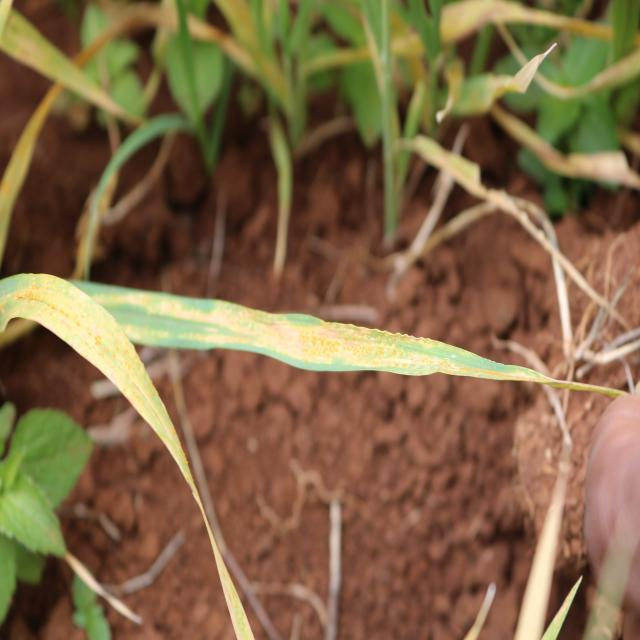Stripe Rust: (110, 290, 542, 380)
